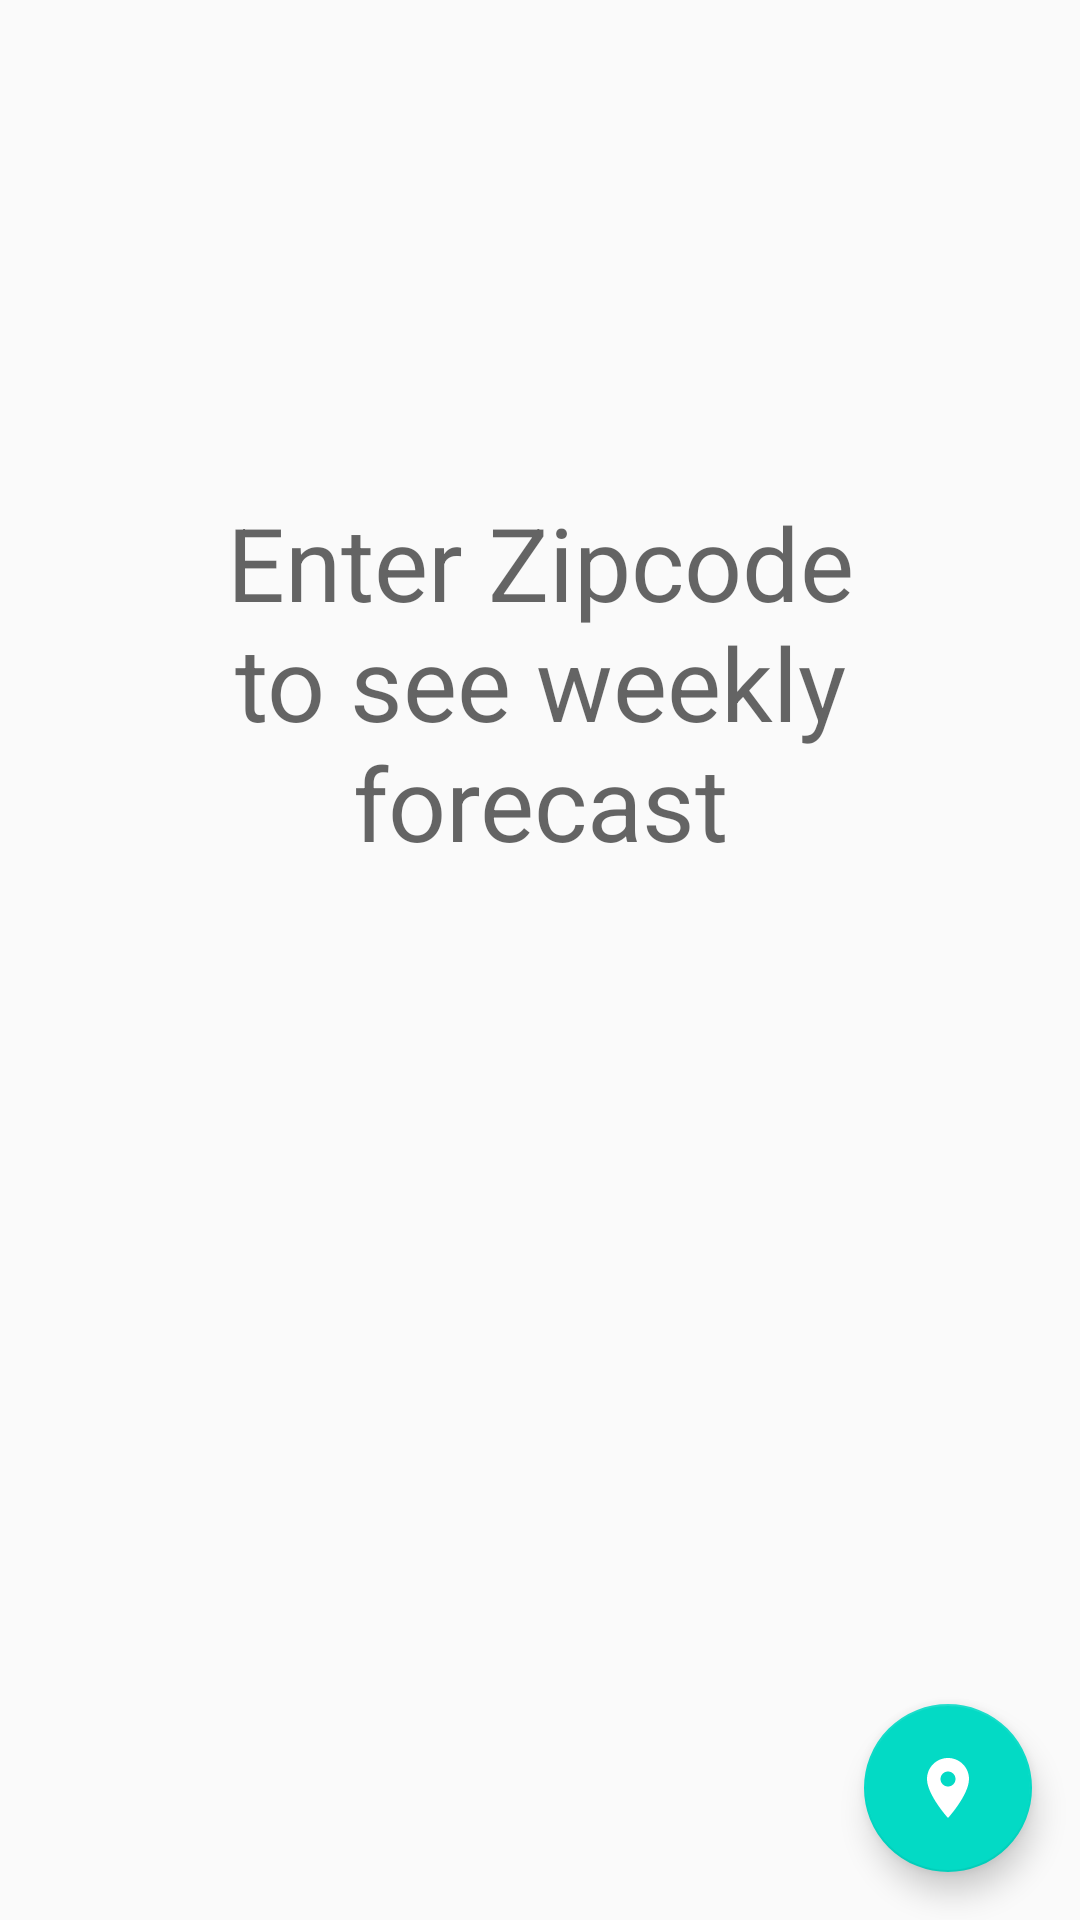

Icon bounding boxes for this 1080px×1920px phone screenshot, format (x1, y1, x2, y2):
location on: (864, 1704, 1032, 1872)
